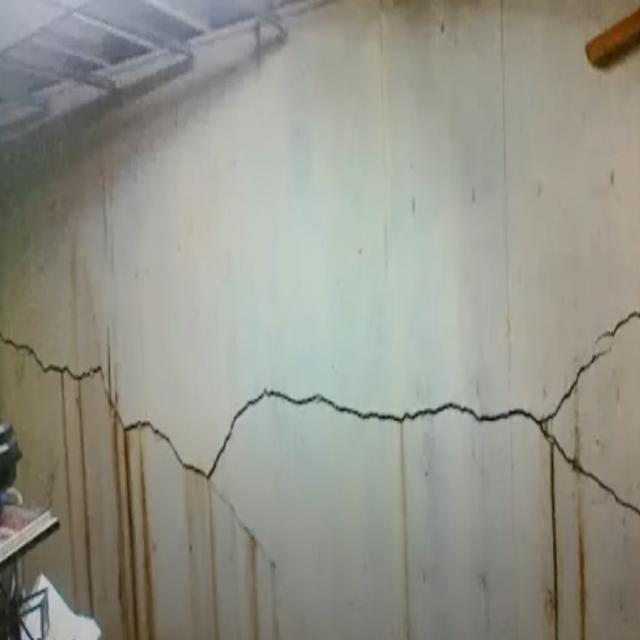Wall_Cracks: (0, 216, 640, 640)
